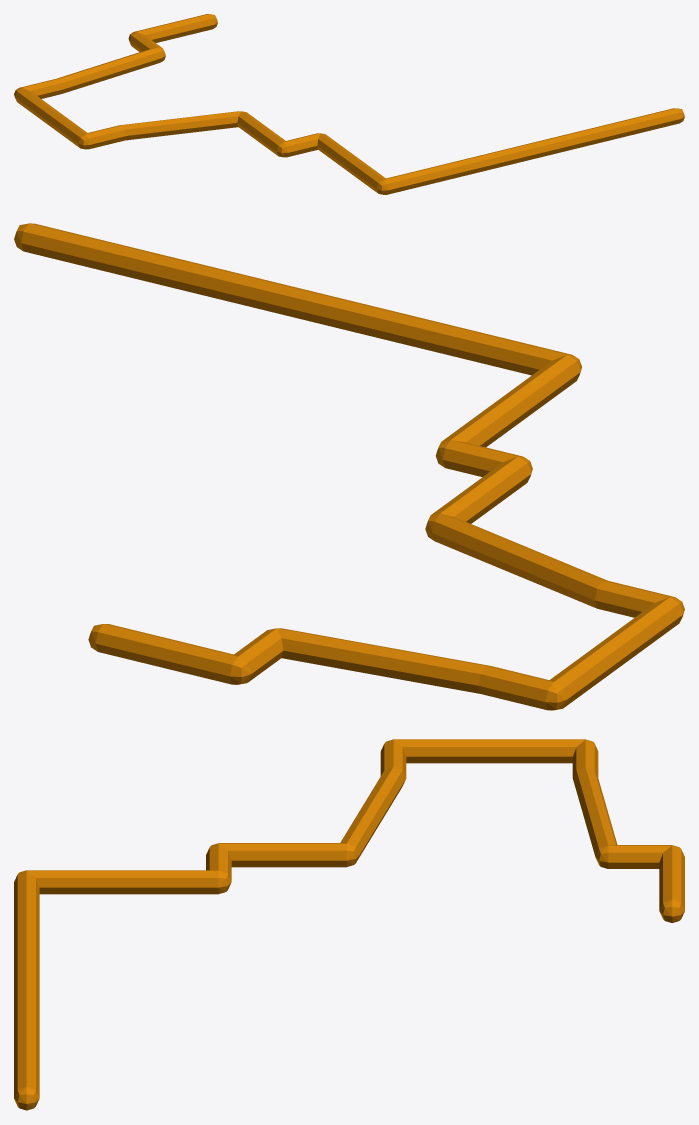
3 views of the same model, one above another, from view 1: azimuth 30°, elevation 25°; view 2: azimuth 150°, elevation 25°; view 3: azimuth 270°, elevation 25° (orthographic). The views are drawn at different scales.
Bounding box in the file's own units: 662 × 20 × 524.
